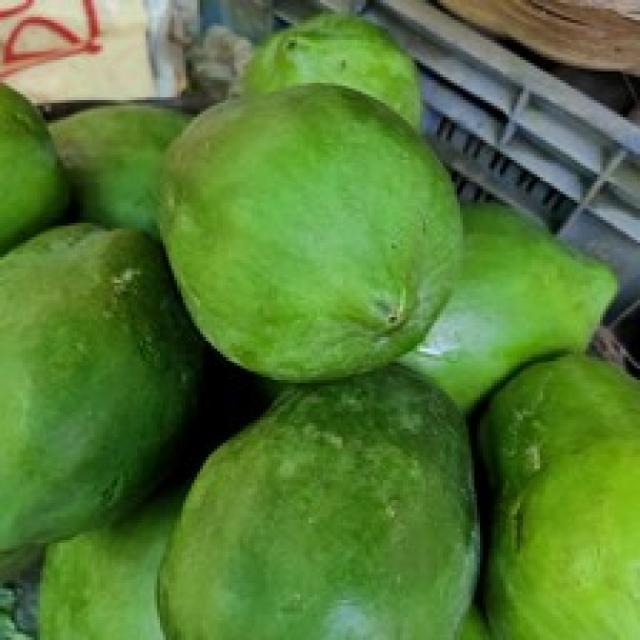Pepaya unrippen: (159, 80, 471, 381), (169, 375, 484, 640)
